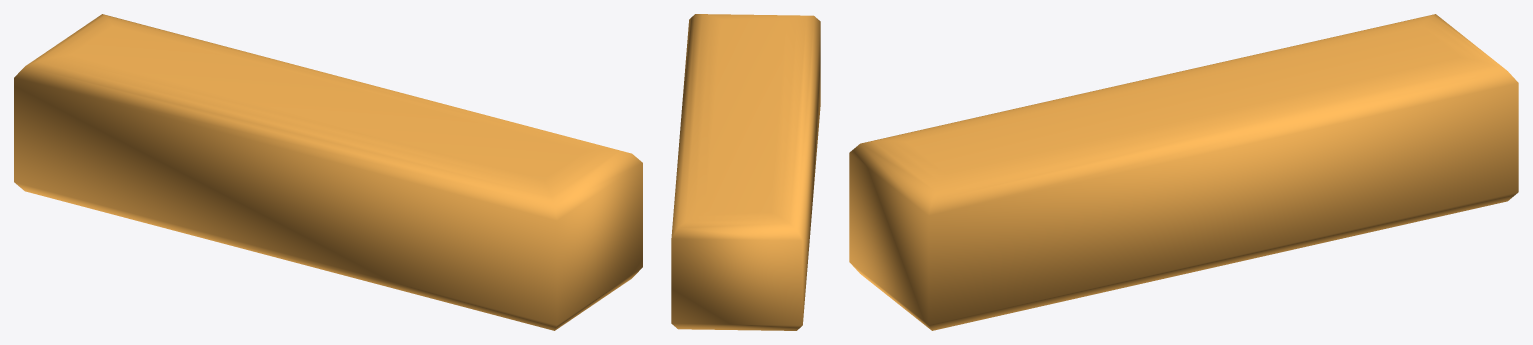
Rendered from ToyObject_003.fbx.
The picture shows the model from 3 angles, left to right: view 1: azimuth 30°, elevation 25°; view 2: azimuth 150°, elevation 25°; view 3: azimuth 270°, elevation 25°; orthographic projection. The views are drawn at different scales.
Visible parts, largest first — view 1: Object.001; view 2: Object.001; view 3: Object.001.
Boxes of the visible parts, x1=… form: Object.001: x1=14, y1=14, x2=642, y2=330; Object.001: x1=671, y1=14, x2=820, y2=330; Object.001: x1=849, y1=14, x2=1518, y2=330.
Size of the model in its own units: 0.0988 by 0.0342 by 0.1426.
